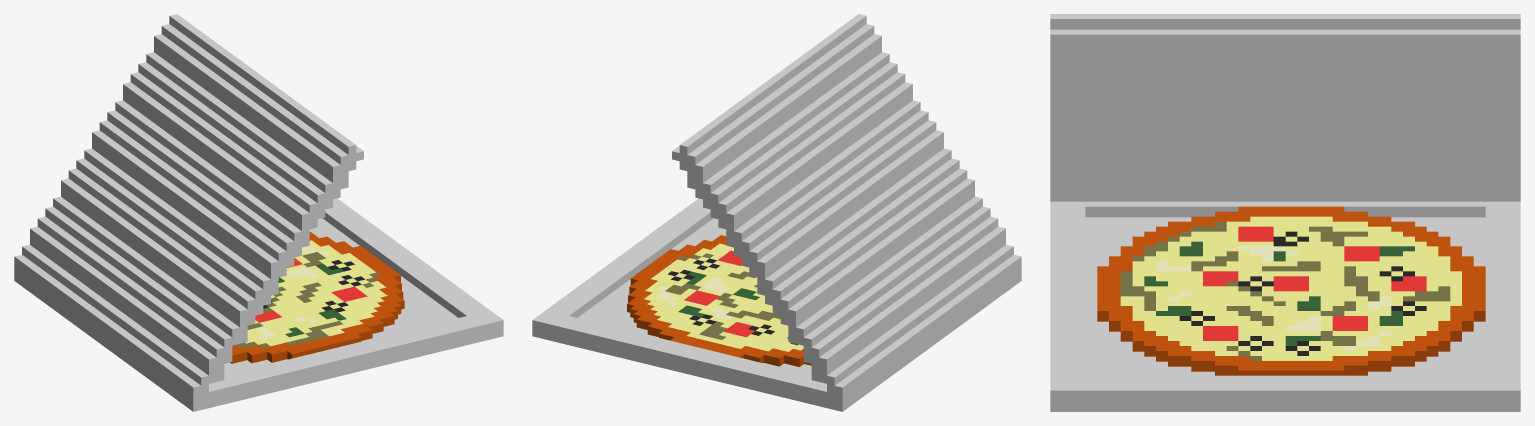
Rendered from Pizza.obj.
The picture shows the model from 3 angles, left to right: view 1: azimuth 30°, elevation 25°; view 2: azimuth 150°, elevation 25°; view 3: azimuth 270°, elevation 25°; orthographic projection. The views are drawn at different scales.
Size of the model in its own units: 40 by 28 by 40.
Materials: 1 (1 with a texture image).
